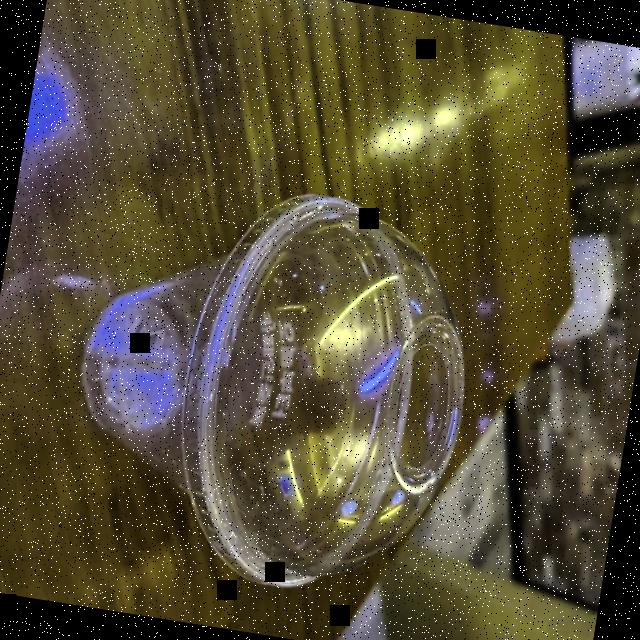plastic_cup_lid: (156, 169, 498, 613)
